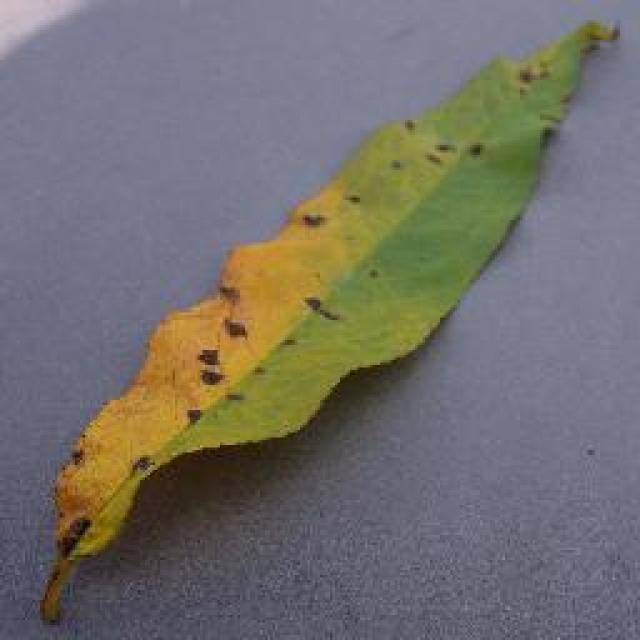Peach_Bacterial_Spot: (138, 114, 435, 444)
